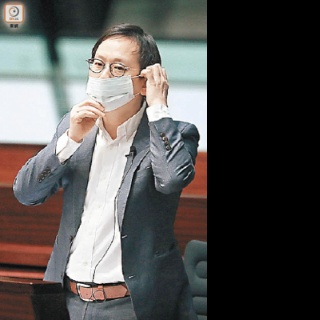with_mask: (88, 56, 140, 112)
